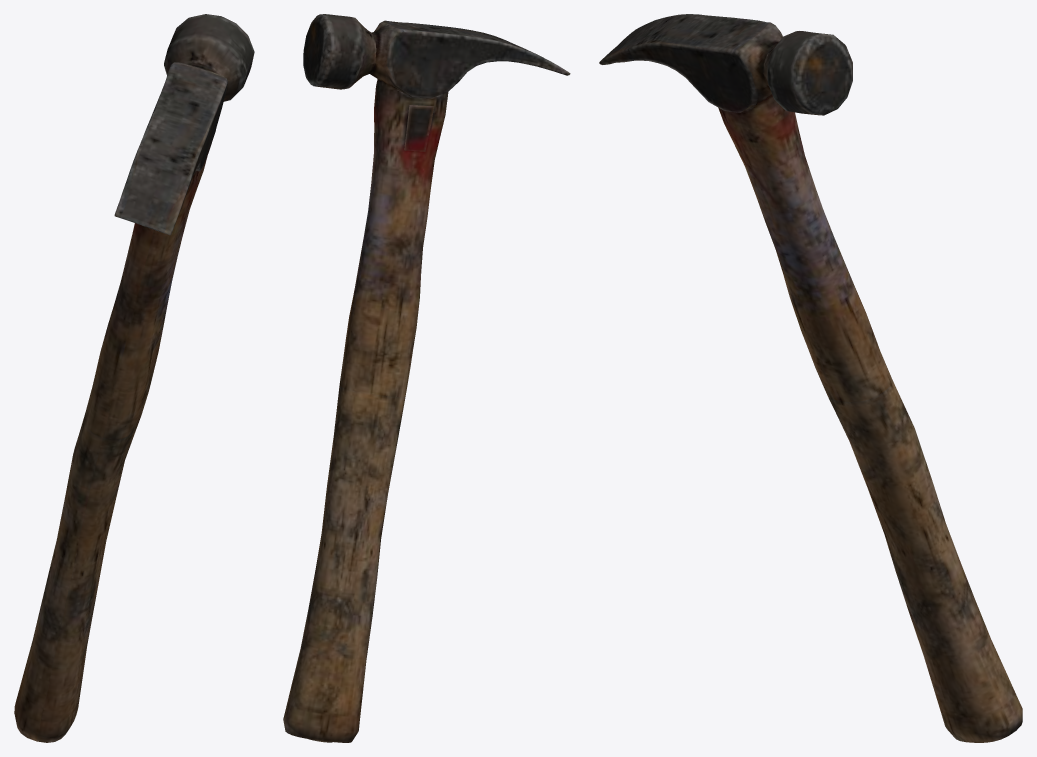
The model's file is martelo.glb.
3 views of the same model, side by side, from view 1: azimuth 30°, elevation 25°; view 2: azimuth 150°, elevation 25°; view 3: azimuth 270°, elevation 25° (orthographic). The views are drawn at different scales.
Parts seen in each view (by area): view 1: tool_2_low_tools_hammer_0, tools_1_low_tools_hammer_0; view 2: tool_2_low_tools_hammer_0, tools_1_low_tools_hammer_0, tool_4_low_tools_hammer_0; view 3: tool_2_low_tools_hammer_0, tools_1_low_tools_hammer_0.
Boxes of the visible parts, x1=… form: tool_2_low_tools_hammer_0: x1=14, y1=156, x2=207, y2=742; tools_1_low_tools_hammer_0: x1=114, y1=14, x2=254, y2=235; tool_2_low_tools_hammer_0: x1=283, y1=79, x2=448, y2=742; tools_1_low_tools_hammer_0: x1=303, y1=14, x2=570, y2=98; tool_4_low_tools_hammer_0: x1=404, y1=105, x2=434, y2=151; tool_2_low_tools_hammer_0: x1=718, y1=95, x2=1022, y2=742; tools_1_low_tools_hammer_0: x1=599, y1=14, x2=852, y2=115.
Bounding box in the file's own units: 0.1053 × 0.3443 × 0.1782.
1 material, 1 textured.
